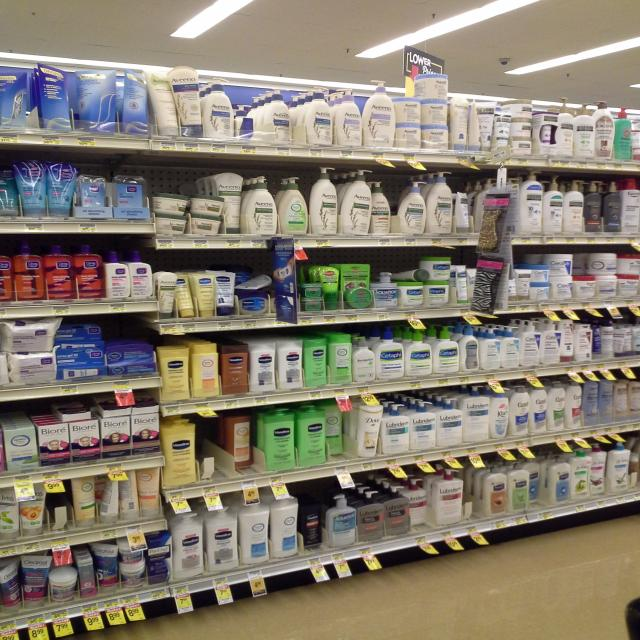empty: (193, 416, 237, 481), (460, 462, 482, 527)
